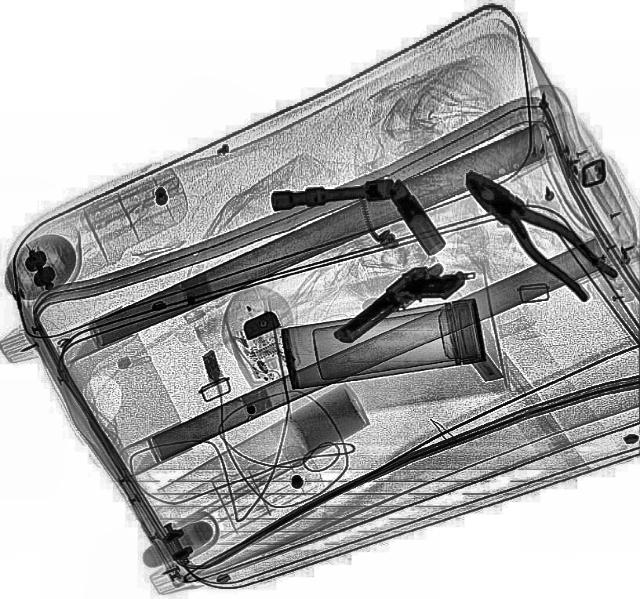Gun: (329, 244, 468, 366)
Pliers: (448, 159, 620, 302)
